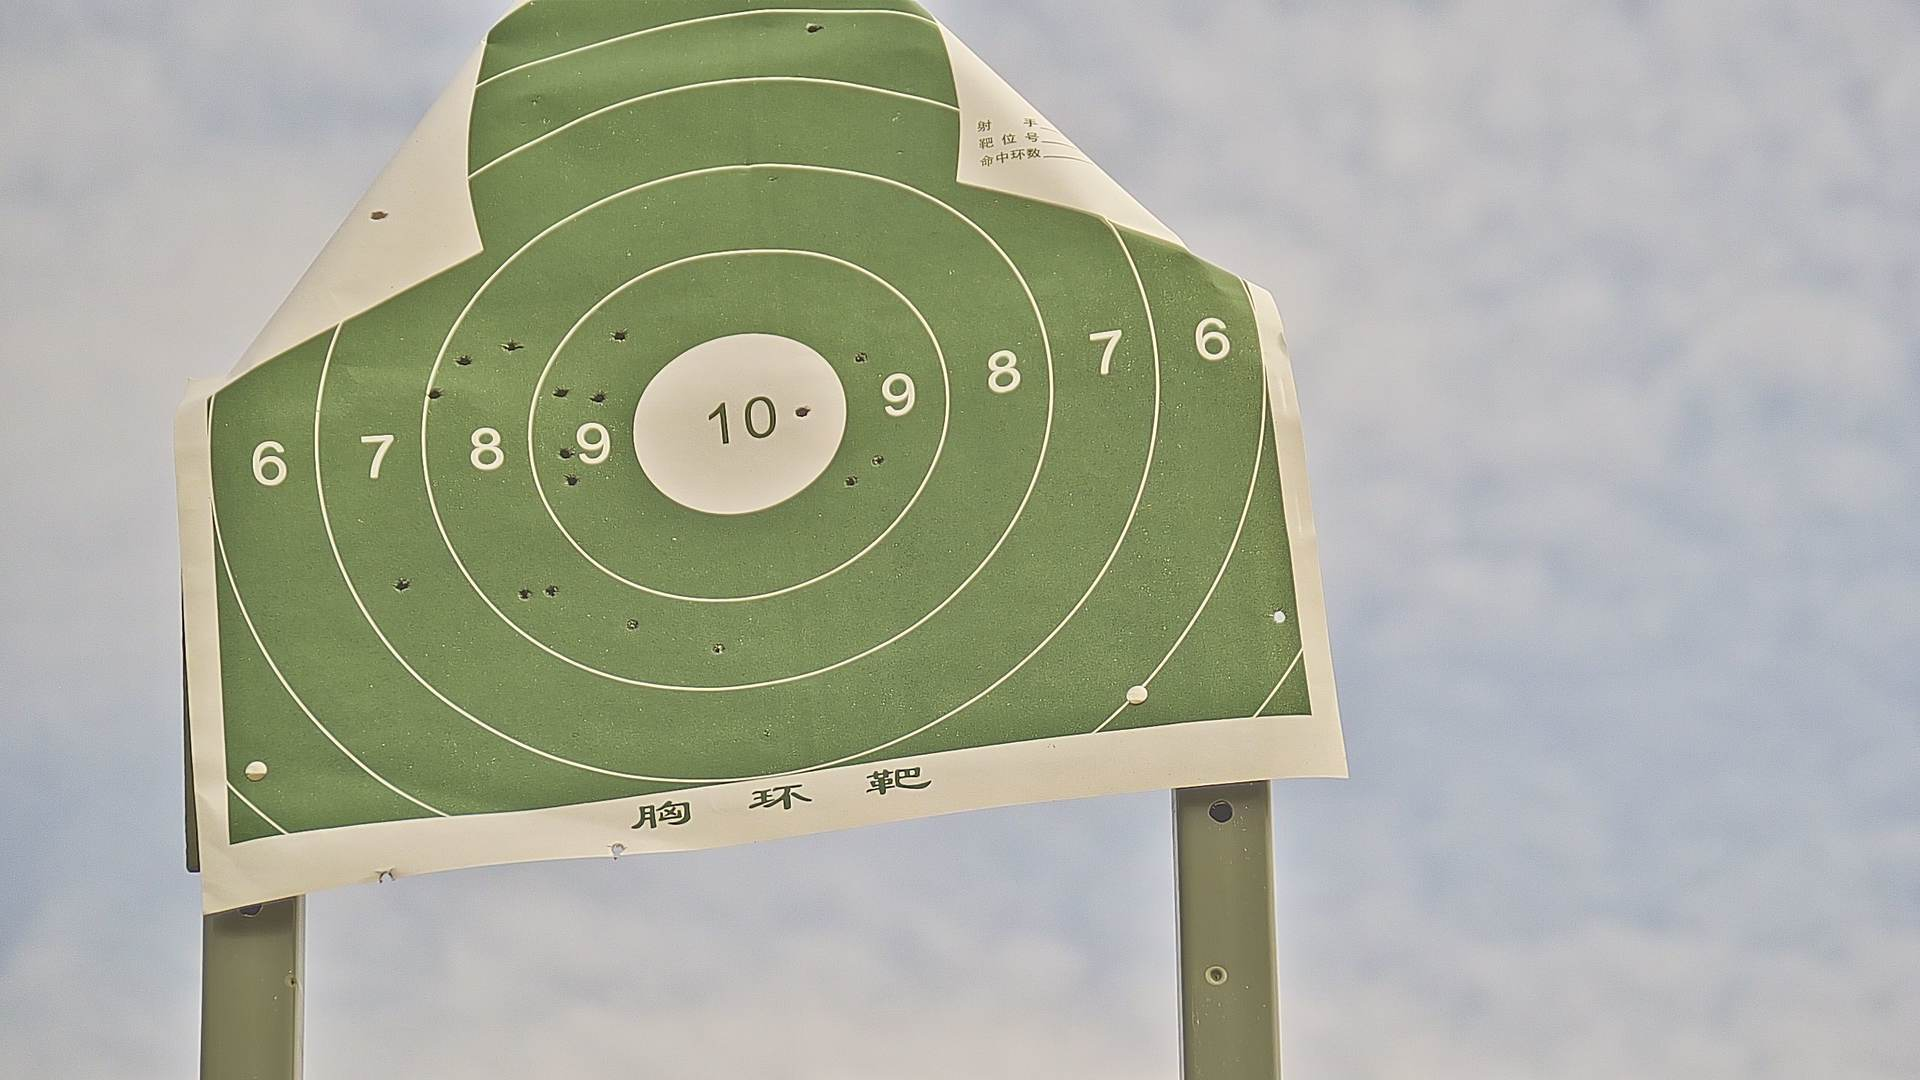hole: (843, 473, 858, 488), (856, 349, 870, 364), (804, 22, 820, 36), (396, 575, 409, 589), (542, 584, 556, 597), (564, 473, 579, 487), (593, 390, 607, 405), (611, 330, 628, 340), (712, 641, 727, 653), (1273, 609, 1284, 622), (558, 446, 570, 459), (455, 353, 469, 364), (429, 386, 440, 398), (795, 406, 808, 417), (556, 386, 567, 398), (872, 454, 885, 463), (506, 339, 517, 349), (518, 587, 527, 597), (626, 617, 636, 628)
kernel: (737, 419, 738, 423)
target: (206, 3, 1323, 855)
ten: (630, 334, 847, 516)
